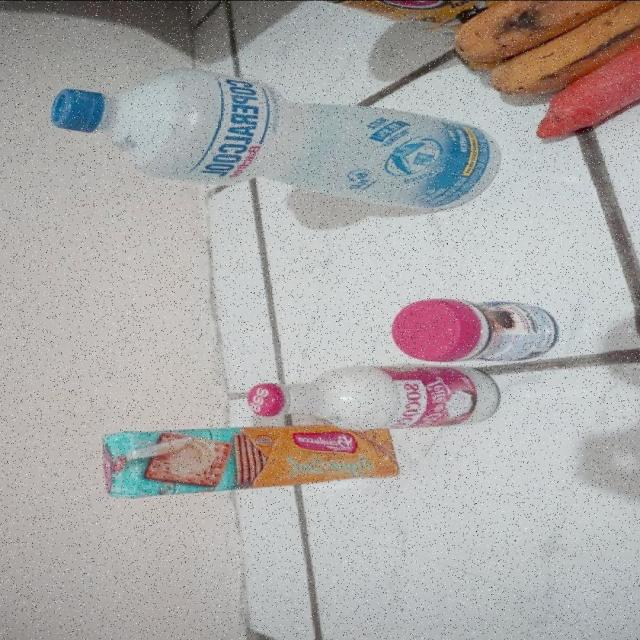AlcoholBottle: (48, 74, 483, 222)
Banana: (455, 0, 640, 54)
Carrot: (526, 63, 640, 143)
ChocolatePowder: (255, 0, 444, 33)
CoconutMilk: (252, 368, 501, 430)
Cracker: (99, 431, 399, 497)
Yeast: (392, 292, 550, 362)
